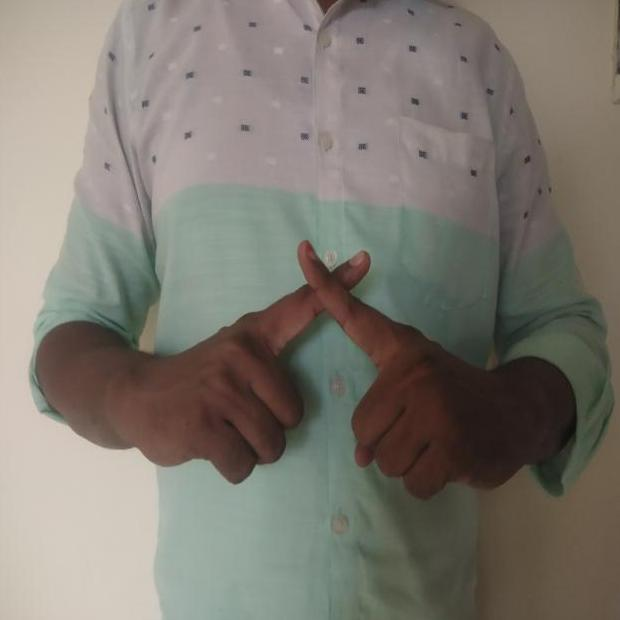W: (136, 219, 510, 520)
